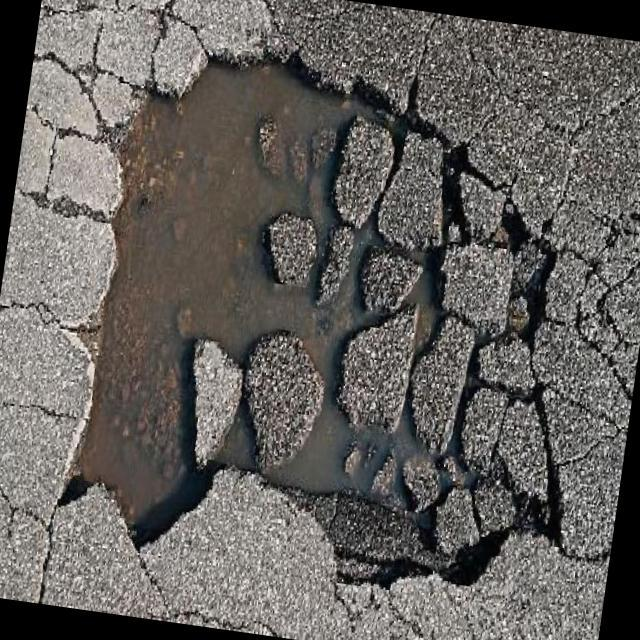Pothole: (77, 64, 548, 581)
